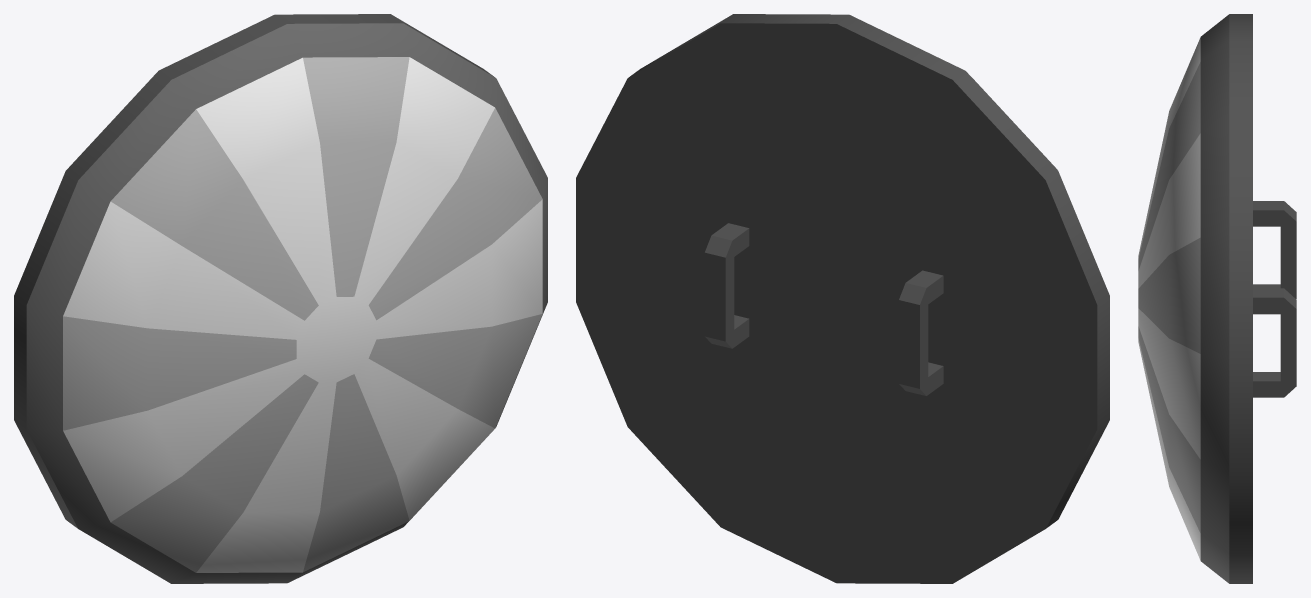
The model's file is Shield_1.fbx.
3 views of the same model, side by side, from view 1: azimuth 30°, elevation 25°; view 2: azimuth 150°, elevation 25°; view 3: azimuth 270°, elevation 25° (orthographic). The views are drawn at different scales.
Visible parts, largest first — view 1: Shield_1; view 2: Shield_1; view 3: Shield_1.
Boxes of the visible parts, x1=… form: Shield_1: x1=14, y1=14, x2=547, y2=583; Shield_1: x1=576, y1=14, x2=1109, y2=583; Shield_1: x1=1138, y1=14, x2=1296, y2=583.
Bounding box in the file's own units: 39.33 × 40.34 × 11.19.
Materials: 1 (1 with a texture image).
